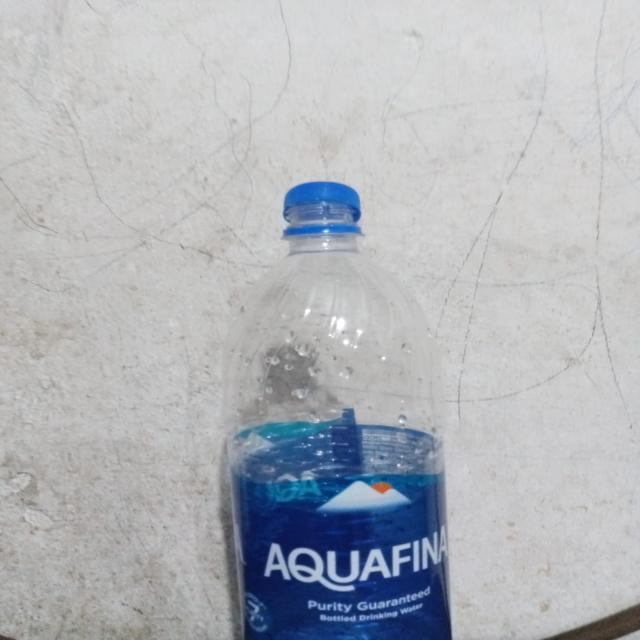bottle: (219, 170, 459, 640)
cap: (276, 177, 378, 242)
label: (223, 448, 462, 638)
